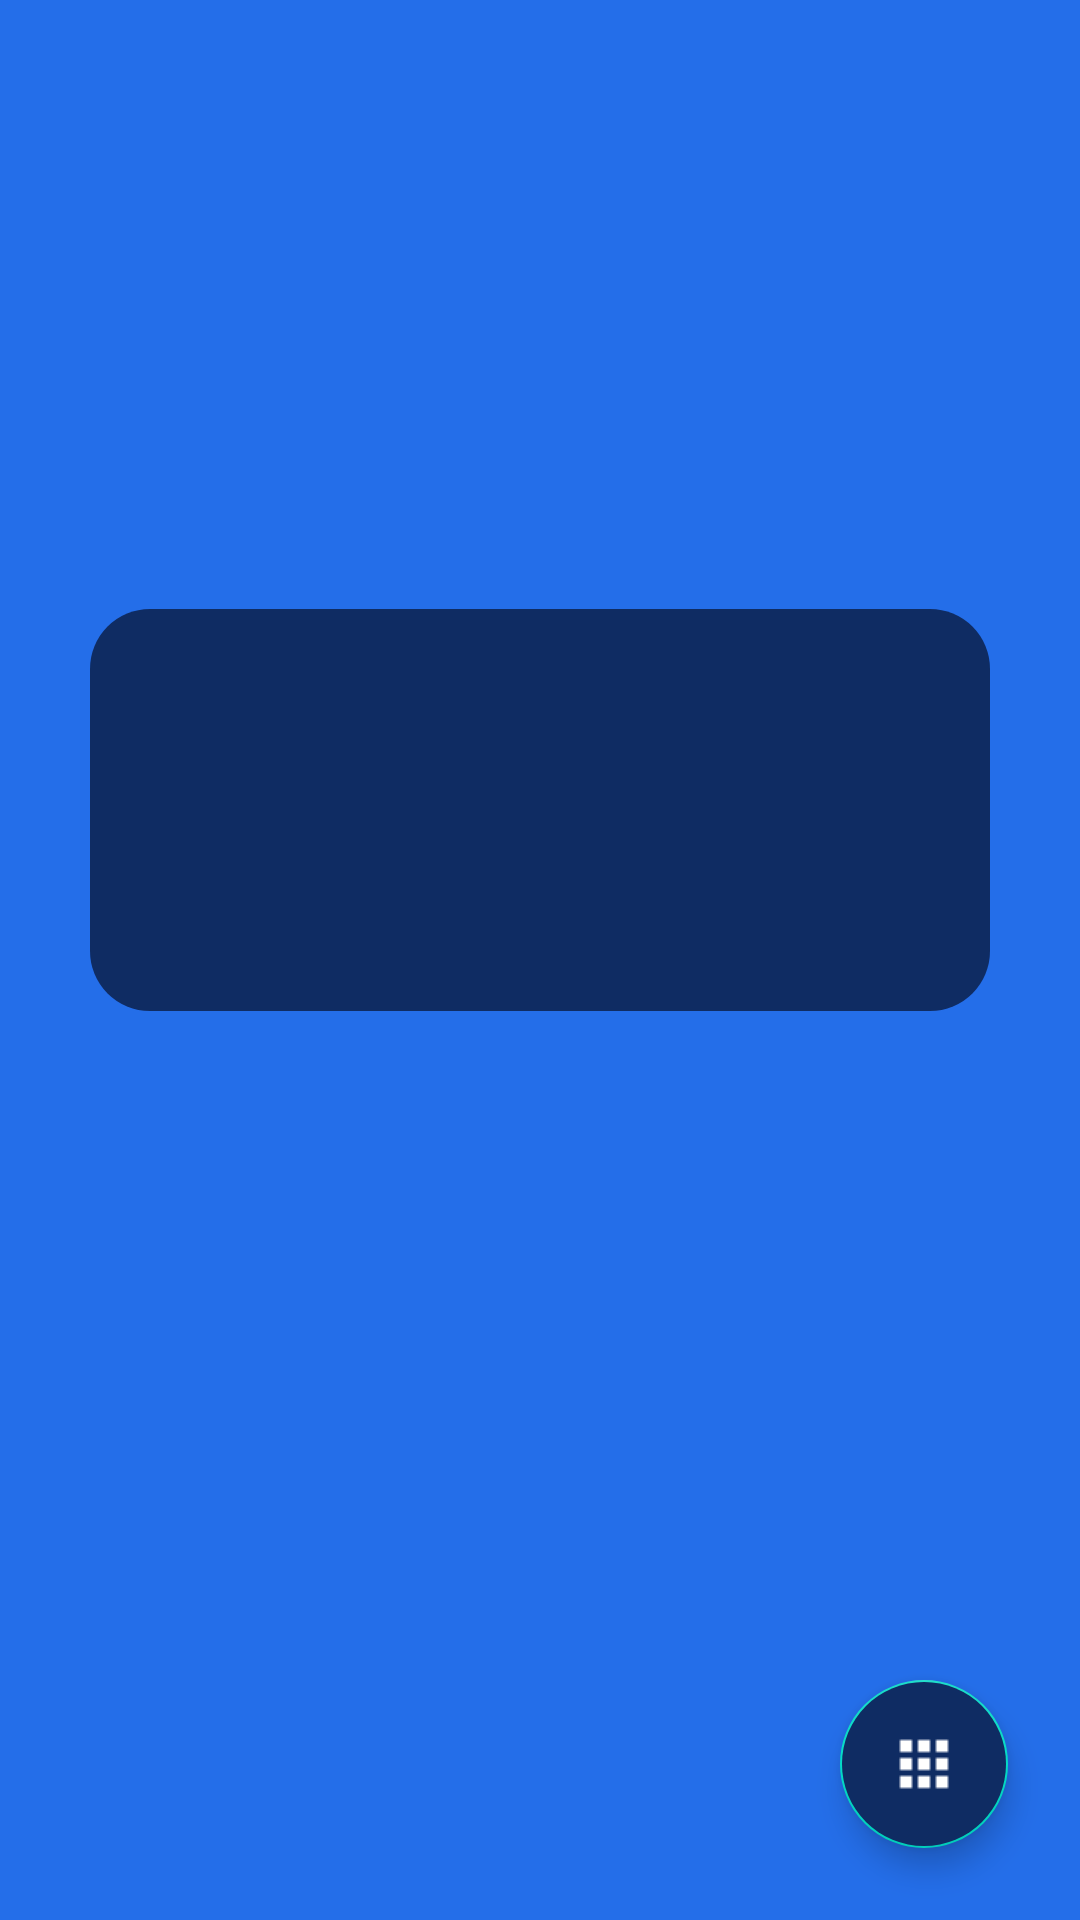

Icon bounding boxes for this 1080*1920 phone screenshot, format (x1, y1, x2, y2):
actions: (840, 1680, 1008, 1848)
